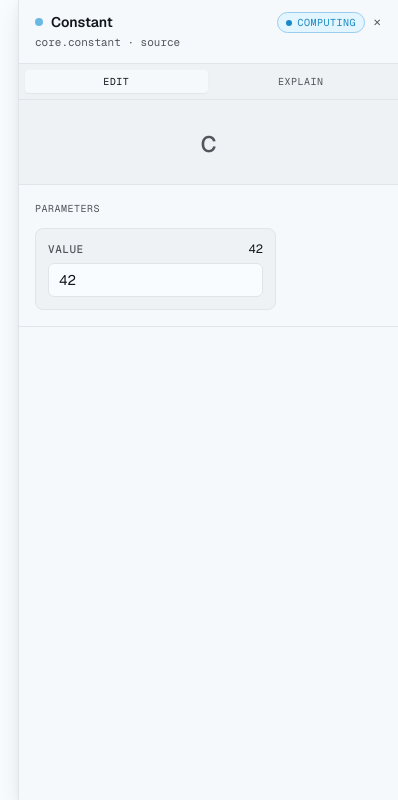
it: InspectorPanel › renders the four-tab explanation block; what / why are always available
Click the button with test id "inspector-mode-explain".
click(301, 81)  # box [210,70,392,92]
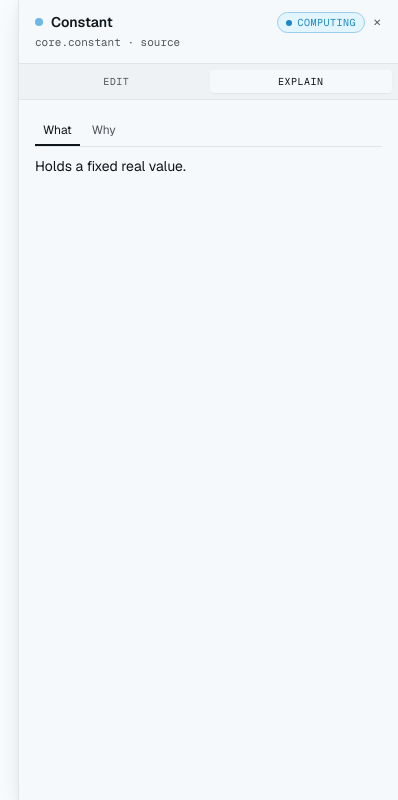
expect the tab with test id "explanation-tab-what" is shown: met, box [35,116,80,146]
expect the tab with test id "explanation-tab-why" is shown: met, box [84,116,124,146]
expect the text with test id "explanation-text-what" shows "fixed real value": met, box [35,156,186,174]
